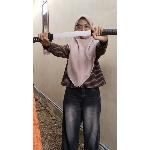Pedang: (33, 26, 117, 48)
